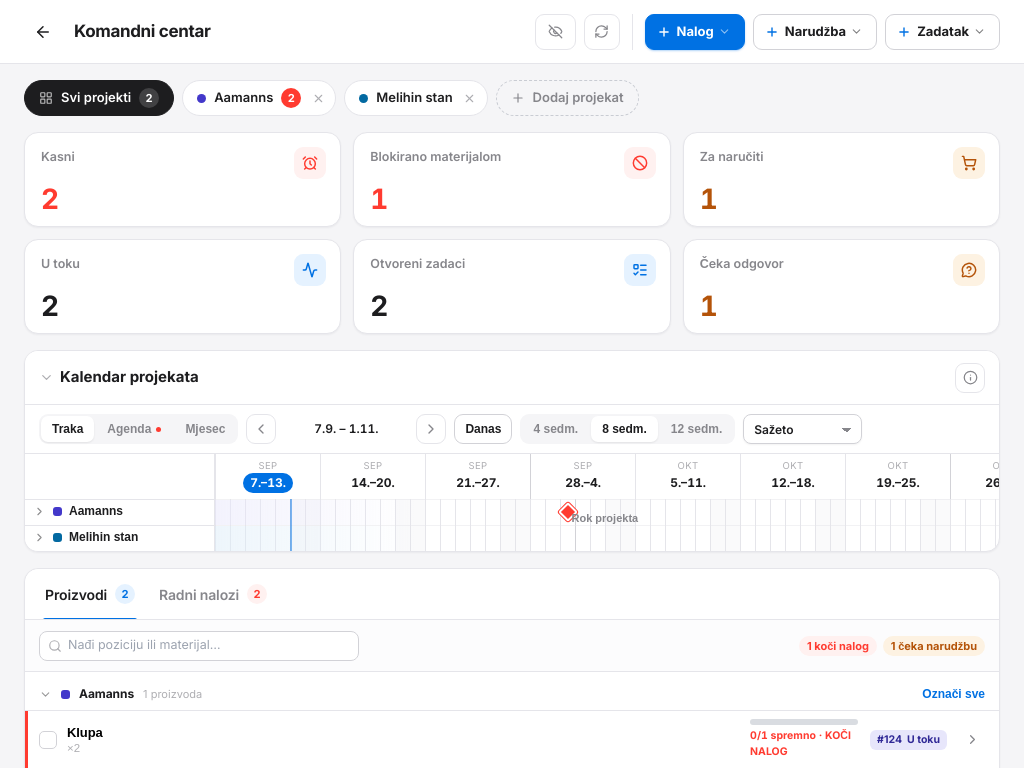
Test case: traka nudi razlaganje redova i raspon, agenda ih ne nudi
Expected: the dropdown named "Razlaganje redova" shows "Sažeto", [743,414,862,444]
Expected: the element named "Raspon" is shown, [520,414,735,444]
Click the button "Agenda" at (134, 429), box [96,416,172,442]
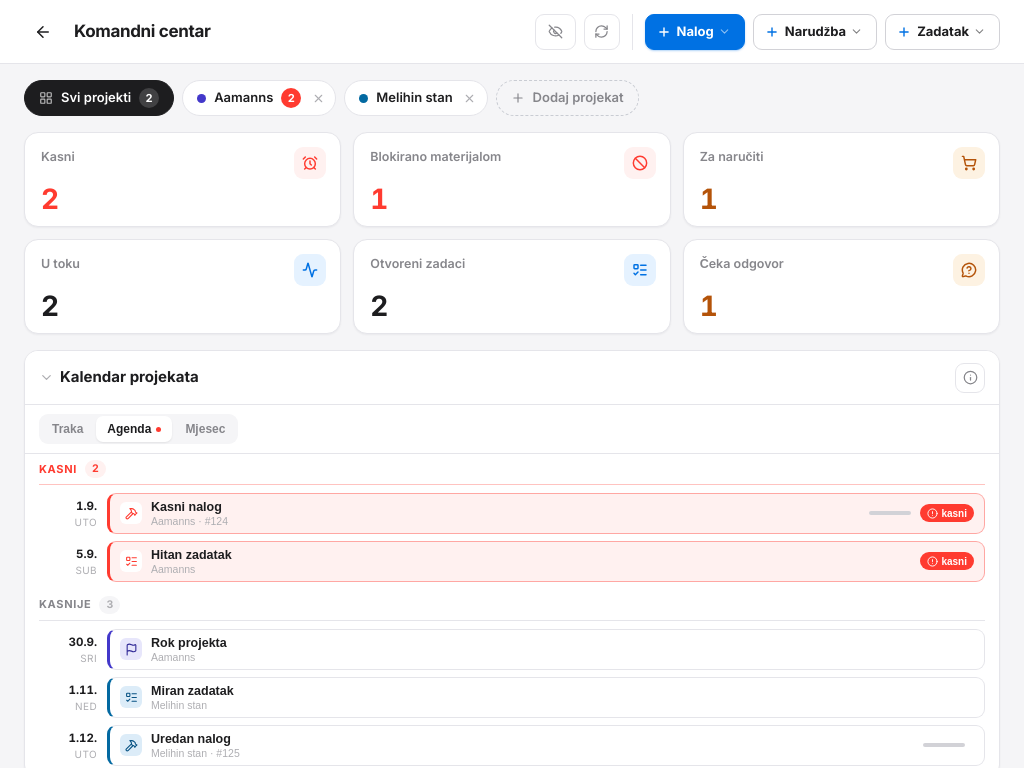
Now the element "Raspon" is gone
